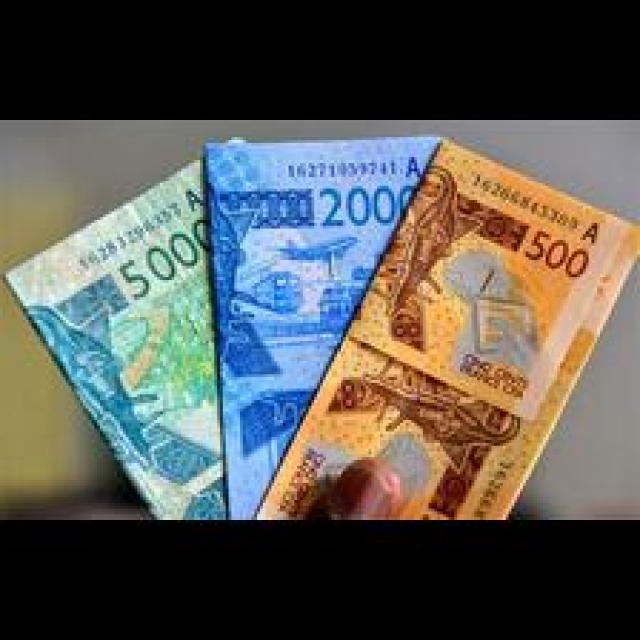banknote: (248, 137, 640, 521), (204, 130, 441, 526), (3, 134, 246, 520), (107, 209, 209, 302), (318, 178, 424, 227), (520, 220, 590, 291)
